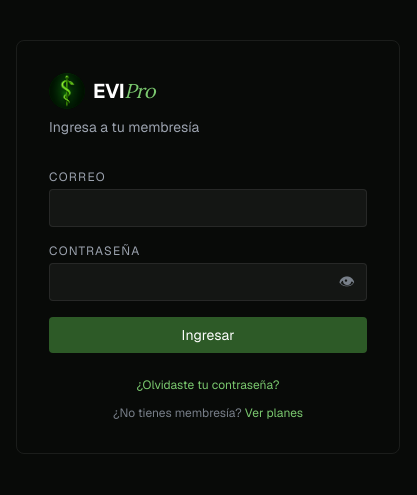
Scenario: LoginPage › muestra un mensaje neutro cuando falla el login por credenciales
Type "paciente@example.com" into the field labelled "Correo".
click(208, 208); type("paciente@example.com")  # box 49,189 -> 367,227
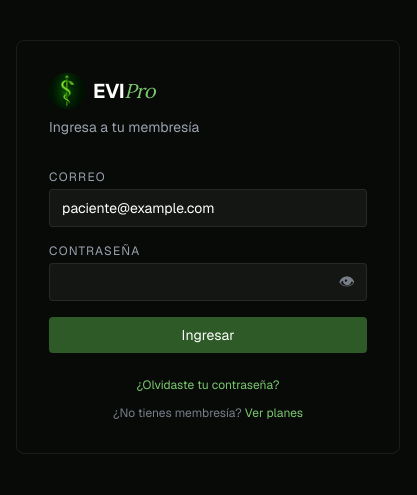
Type "clave-segura" into the password field labelled "Contraseña".
click(208, 282); type("clave-segura")  # box 49,263 -> 367,301
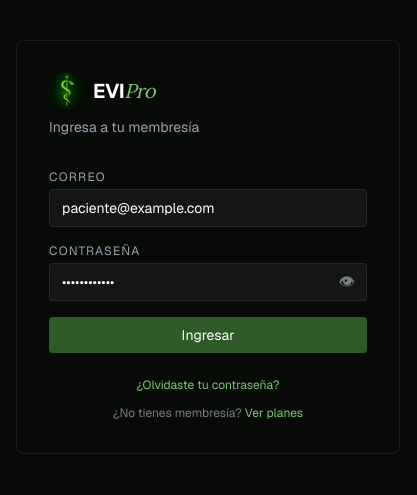
Click the button "Ingresar".
click(208, 335)  # box 49,317 -> 367,353
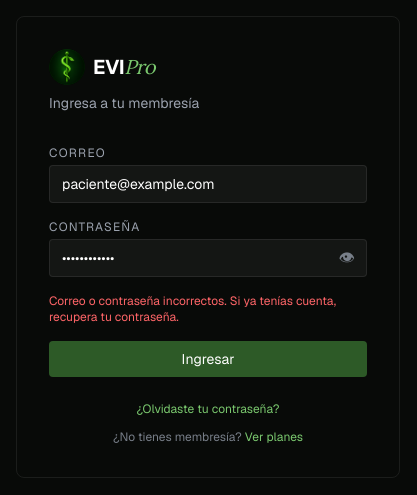
Result: the text "Correo o contraseña incorrectos" is shown at 49,293 -> 336,325
